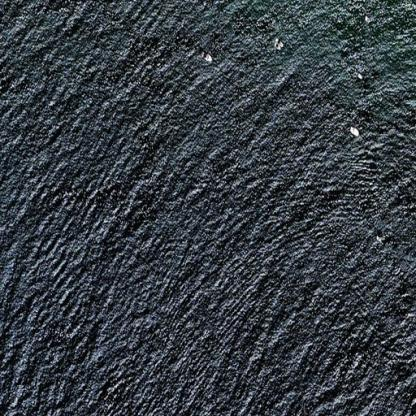ship: (270, 35, 287, 53), (346, 121, 362, 137), (351, 68, 366, 84), (200, 51, 214, 64), (360, 13, 373, 24)
